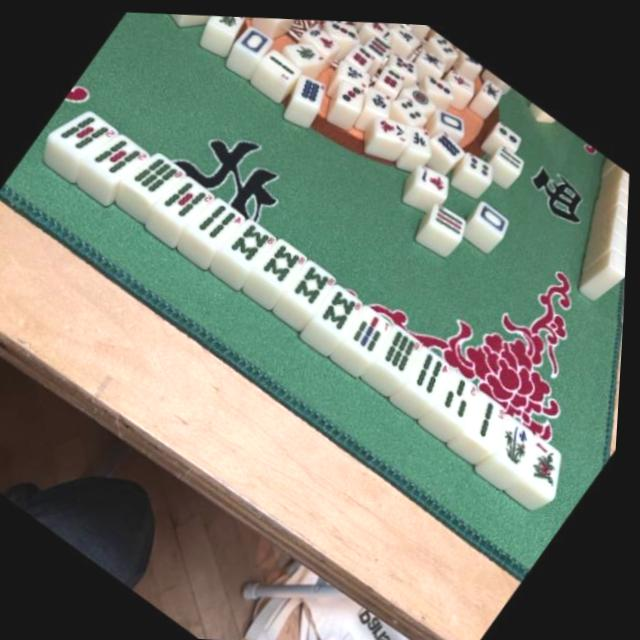bf4: (494, 410, 546, 466)
bs1: (521, 430, 577, 489)
sb2: (466, 388, 516, 443)
sb3: (439, 365, 488, 419)
sb4: (193, 194, 248, 253), (406, 341, 458, 397)
sb5: (55, 106, 119, 171), (90, 131, 150, 192), (159, 171, 215, 232)
sb6: (126, 146, 186, 210), (376, 320, 429, 378)
sb7: (347, 302, 400, 358)
sb8: (223, 214, 278, 273), (314, 278, 368, 338), (257, 236, 309, 292), (286, 257, 338, 313)
